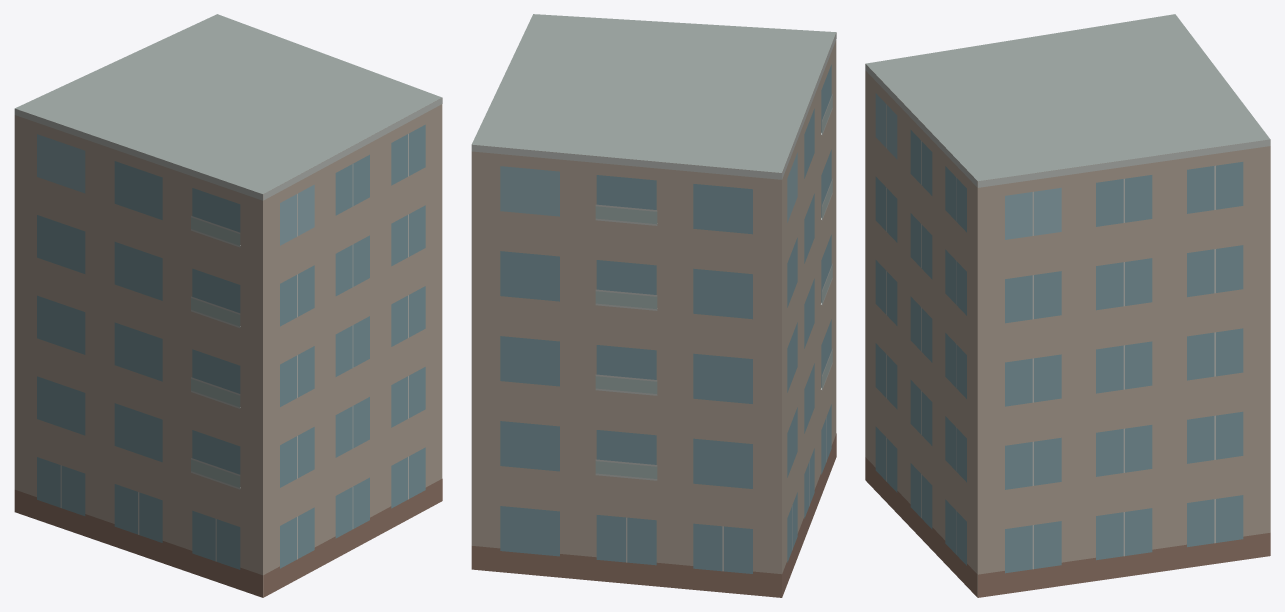
Rendered from survey-upis-32862843.glb.
The picture shows the model from 3 angles, left to right: view 1: azimuth 30°, elevation 25°; view 2: azimuth 150°, elevation 25°; view 3: azimuth 270°, elevation 25°; orthographic projection. The views are drawn at different scales.
Visible parts, largest first — view 1: survey-upis-32862843.tmp; view 2: survey-upis-32862843.tmp; view 3: survey-upis-32862843.tmp.
Part boxes in pixels (x1,y1,x2,y2): survey-upis-32862843.tmp: [14, 14, 442, 597]; survey-upis-32862843.tmp: [471, 14, 836, 597]; survey-upis-32862843.tmp: [865, 14, 1270, 597].
Bounding box in the file's own units: 13.14 × 15.25 × 13.45.
